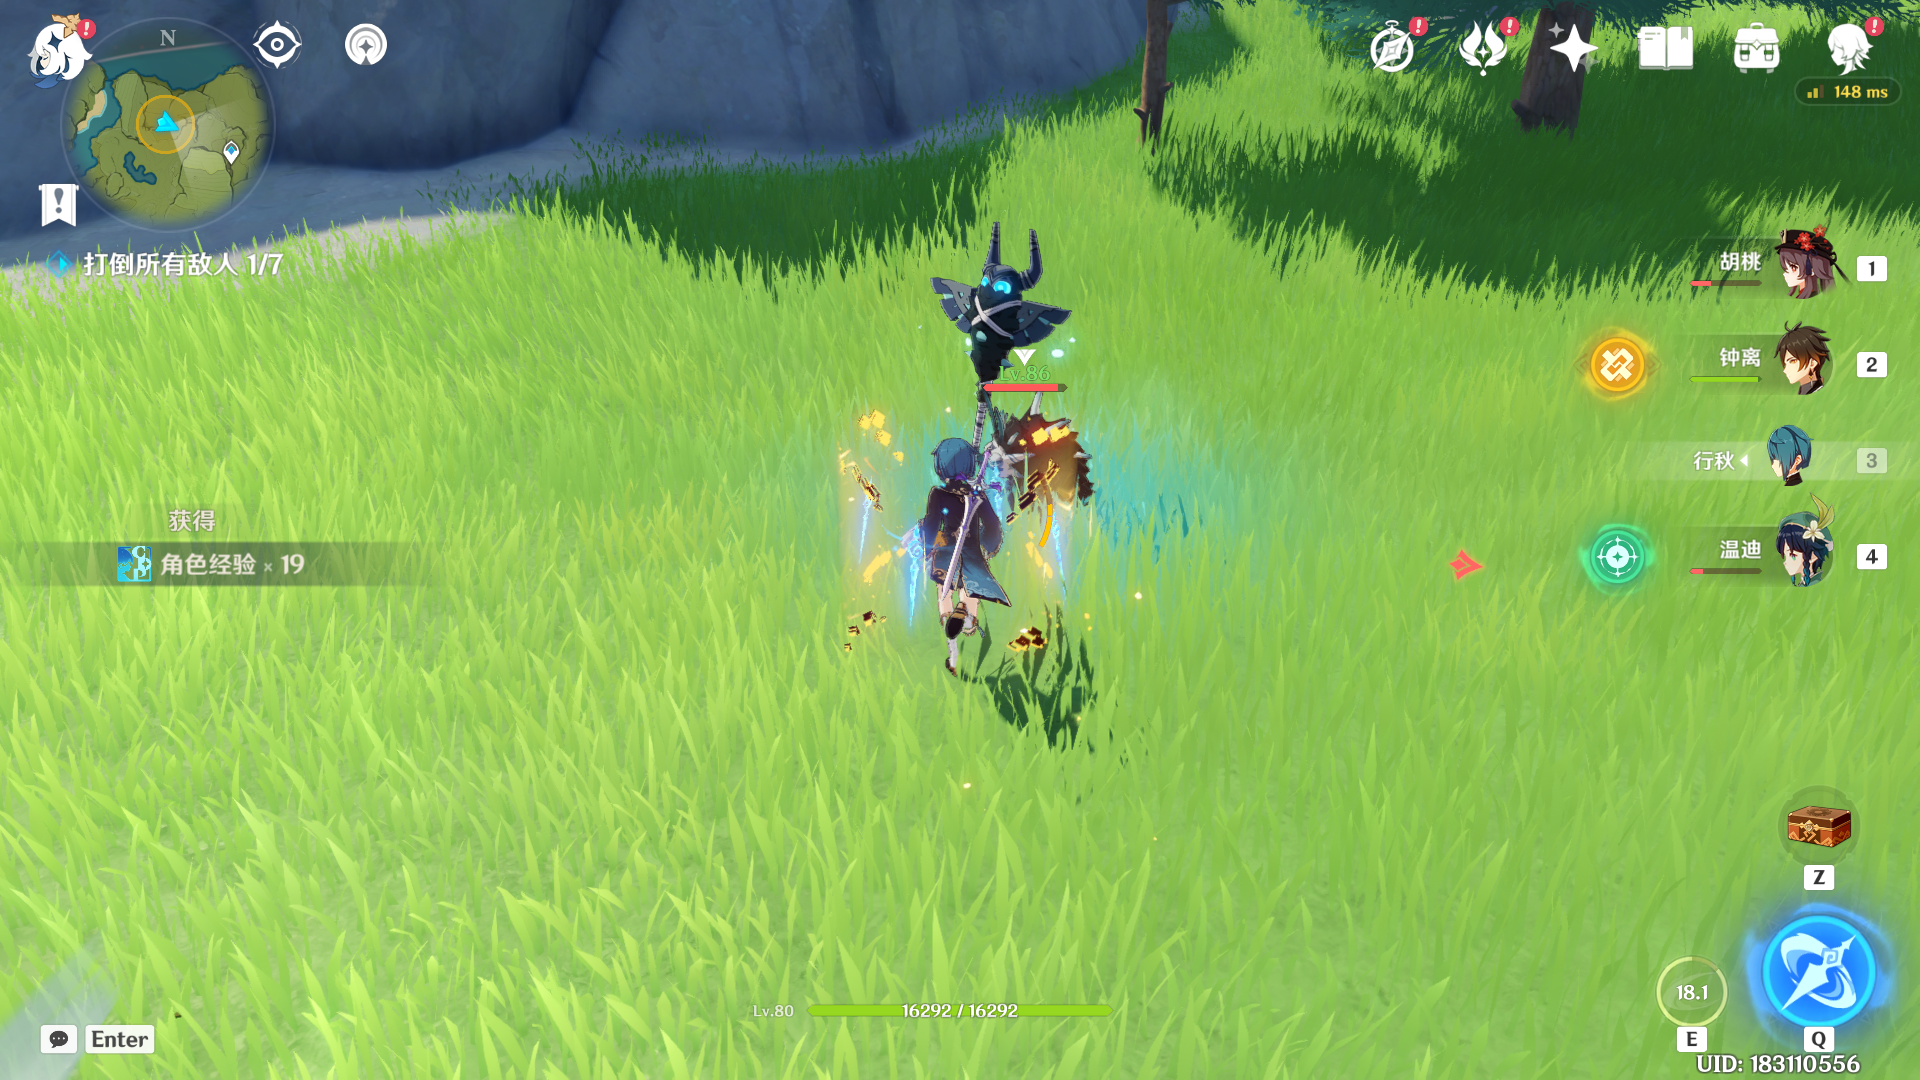character: (858, 407, 1044, 720)
hili: (943, 244, 1130, 566)
